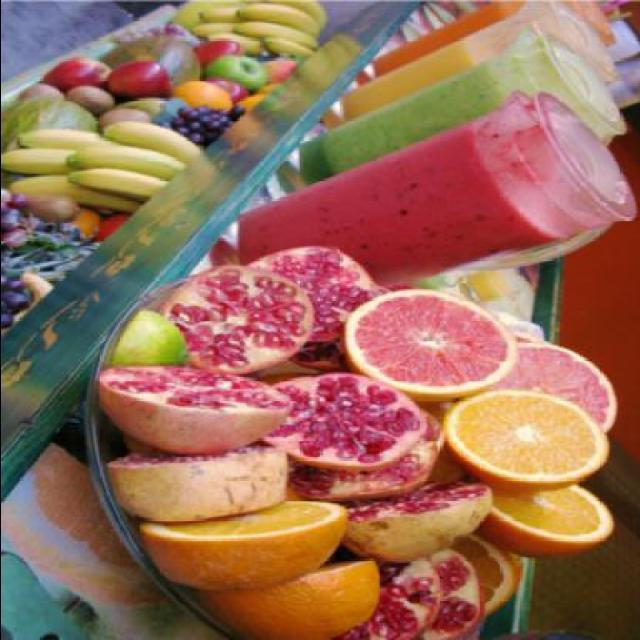Juice: (238, 115, 592, 288), (294, 81, 516, 185), (318, 52, 494, 130), (362, 0, 524, 80)
